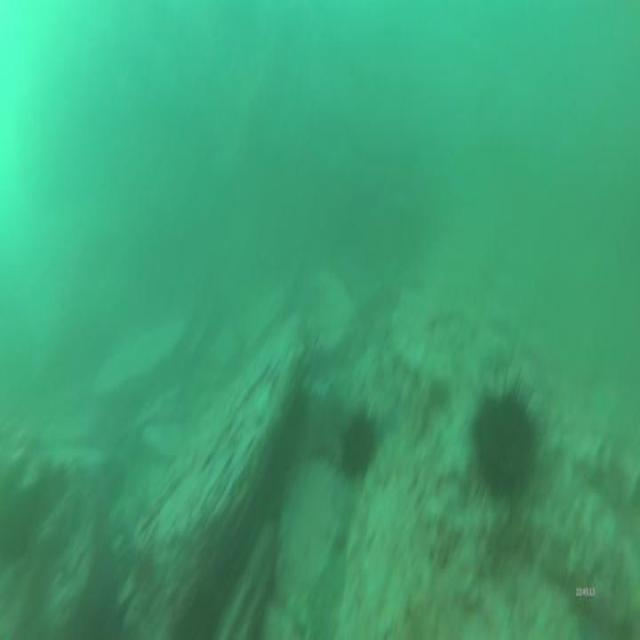echinus: (470, 365, 542, 515), (338, 404, 378, 480)
